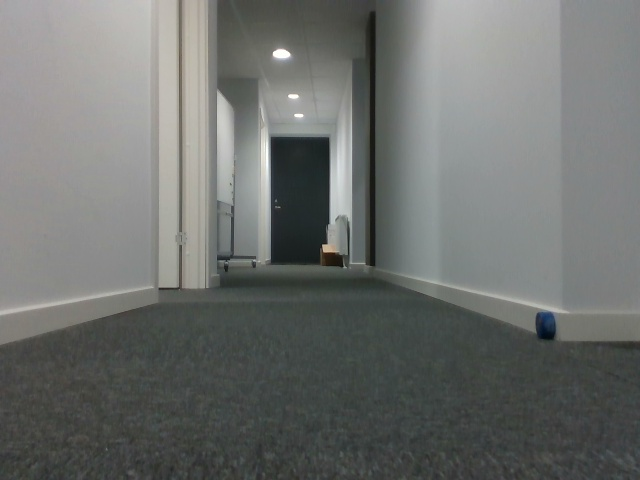alfa: (532, 307, 559, 341)
